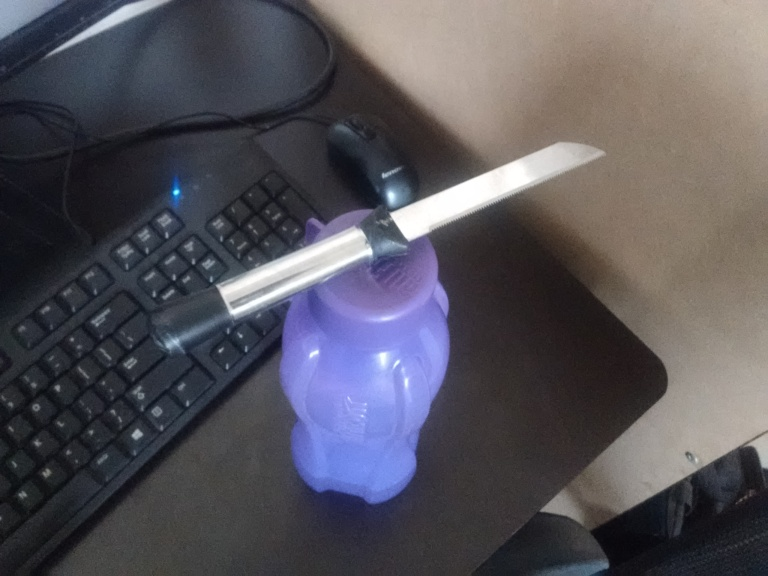knife: (144, 133, 610, 360)
